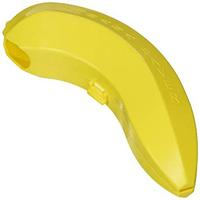banane: (2, 2, 199, 196)
